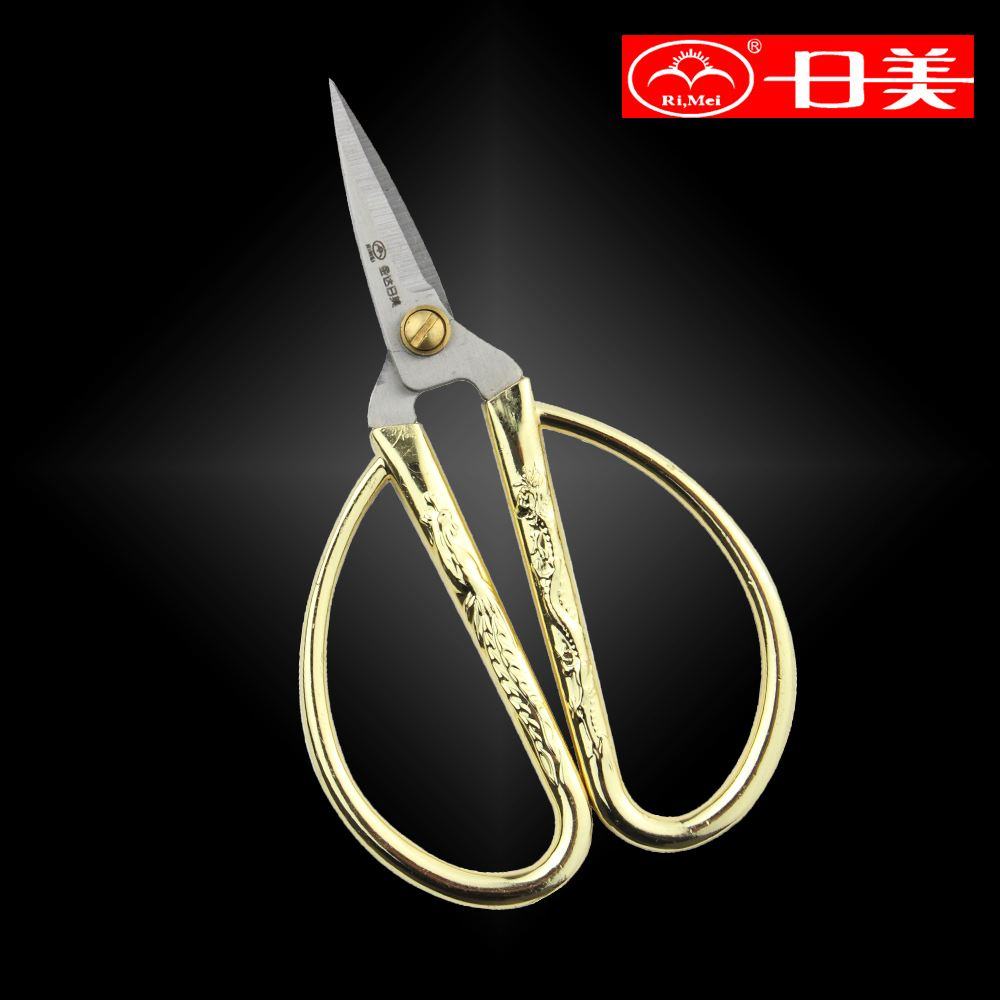scissor: (300, 64, 797, 912)
